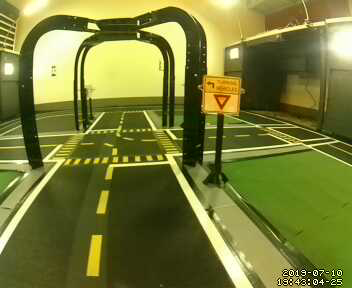Turn Yield: (198, 73, 243, 117)
